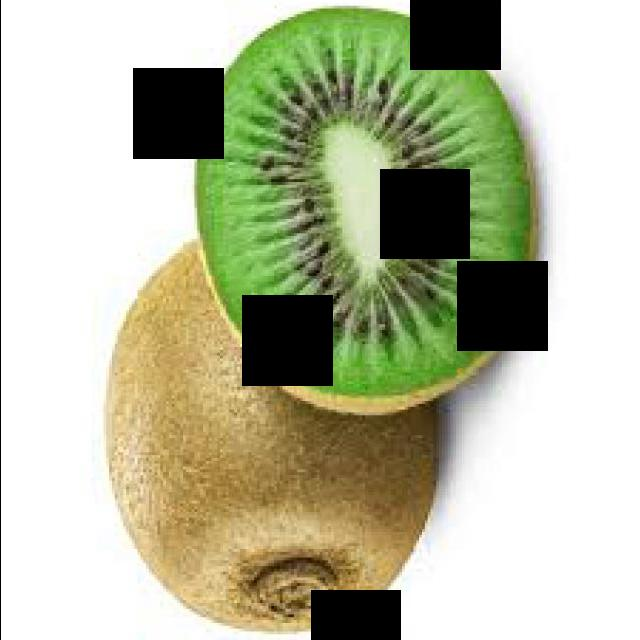kiwi: (101, 229, 440, 636)
